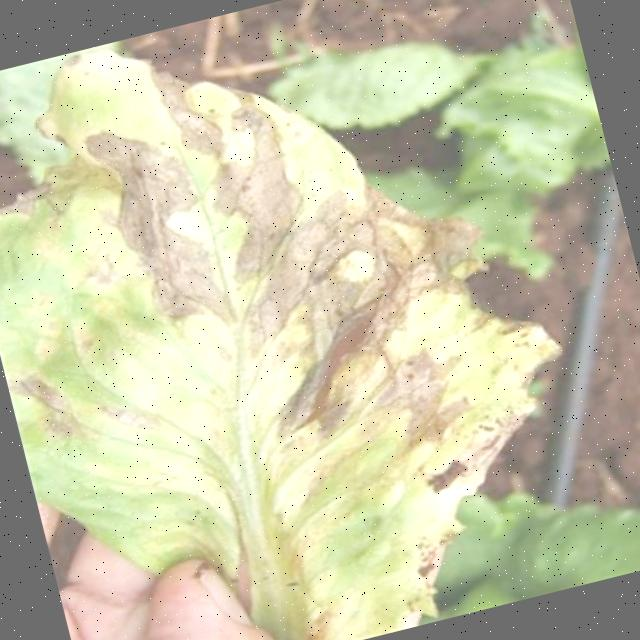Bacterial: (132, 181, 443, 481)
